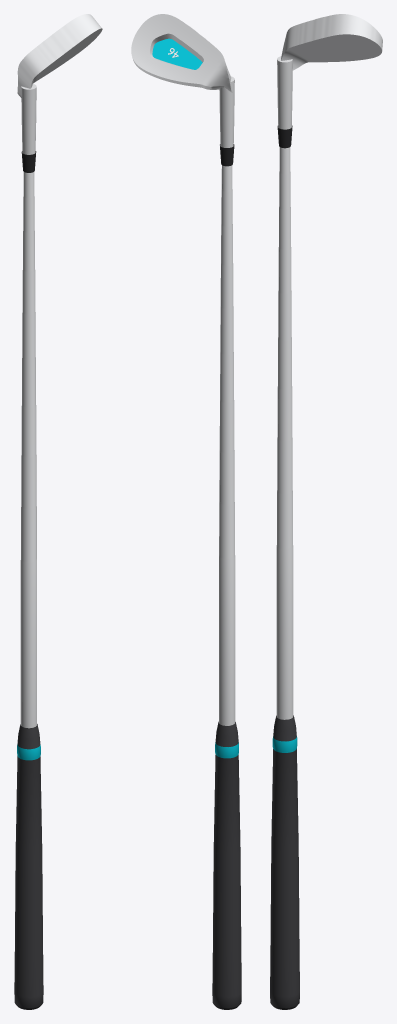
The model's file is Club_wedge_pw.fbx.
3 renders of one model, left to right at view 1: azimuth 30°, elevation 25°; view 2: azimuth 150°, elevation 25°; view 3: azimuth 330°, elevation 25°, orthographic. The views are drawn at different scales.
Parts seen in each view (by area): view 1: Club_wedge_pw; view 2: Club_wedge_pw; view 3: Club_wedge_pw.
Part boxes in pixels (box(x1,y1,x2,y2)): Club_wedge_pw: box(14, 14, 102, 1009); Club_wedge_pw: box(131, 14, 241, 1009); Club_wedge_pw: box(270, 14, 382, 1009).
Size of the model in its own units: 0.0948 by 0.937 by 0.0492.
